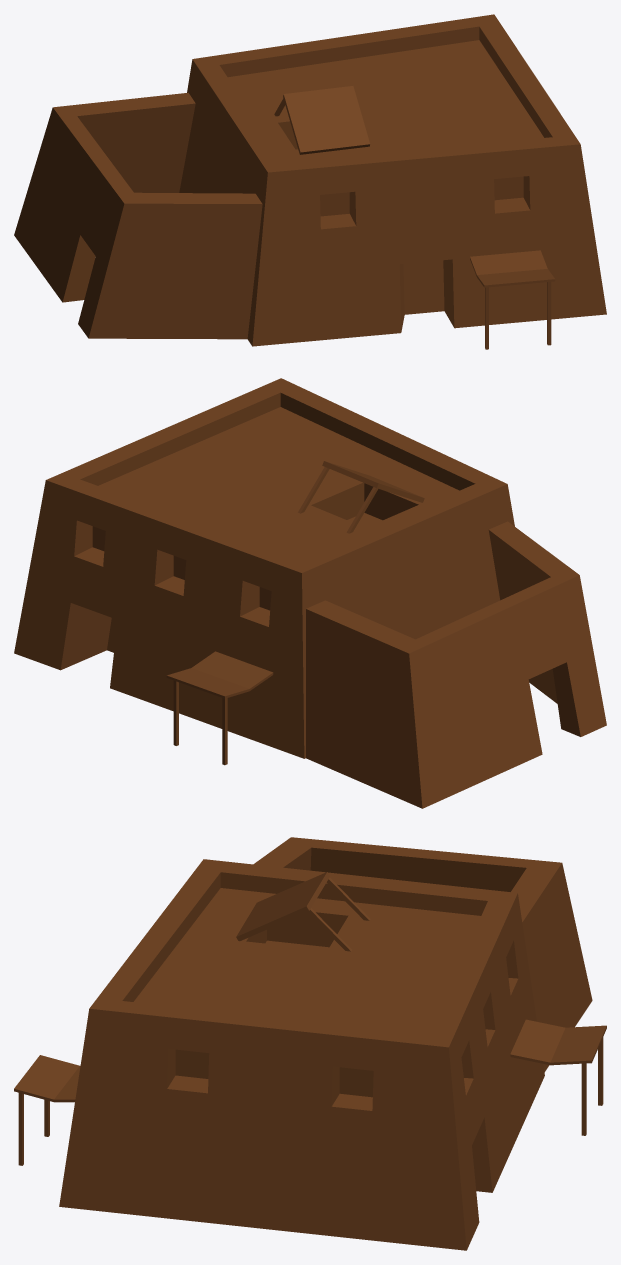
The model's file is casaTipo2.fbx.
The picture shows the model from 3 angles, top to bottom: view 1: azimuth 30°, elevation 25°; view 2: azimuth 150°, elevation 25°; view 3: azimuth 270°, elevation 25°; orthographic projection. The views are drawn at different scales.
Parts seen in each view (by area): view 1: casaGrande.029; view 2: casaGrande.029; view 3: casaGrande.029.
Part boxes in pixels (<box>): casaGrande.029: <box>14,14,606,349</box>; casaGrande.029: <box>14,378,606,808</box>; casaGrande.029: <box>14,837,606,1250</box>.
Size of the model in its own units: 3042 by 1105 by 2737.
